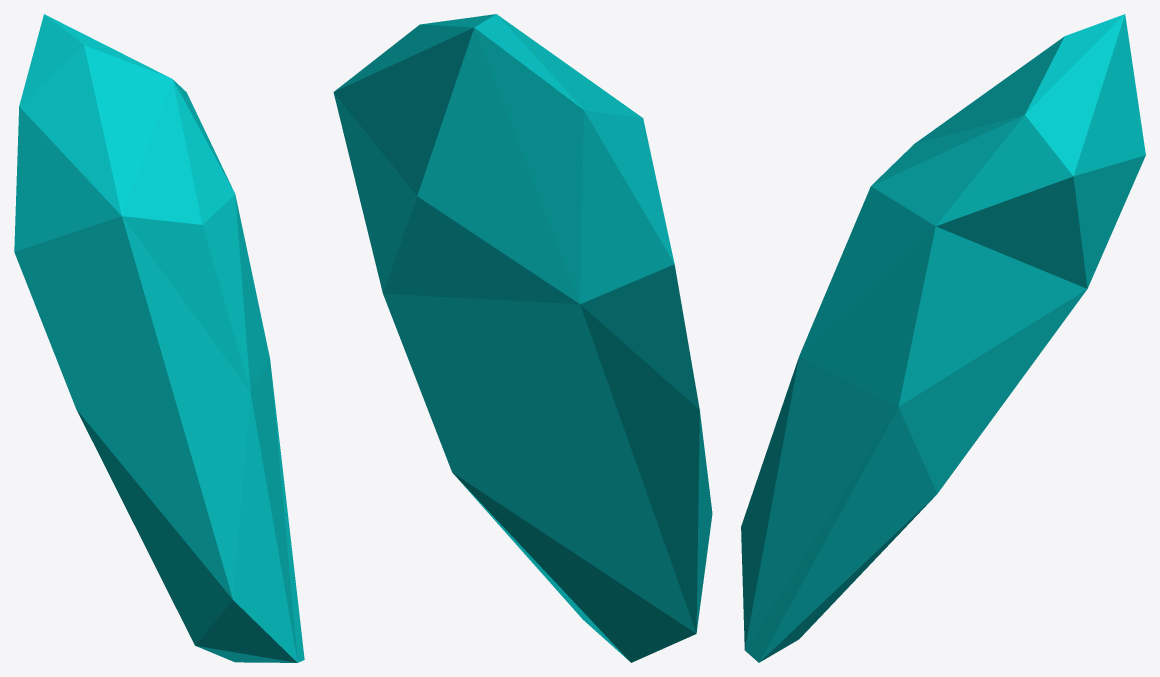
Rendered from Crystal4.fbx.
3 views of the same model, side by side, from view 1: azimuth 30°, elevation 25°; view 2: azimuth 150°, elevation 25°; view 3: azimuth 270°, elevation 25° (orthographic). The views are drawn at different scales.
Parts seen in each view (by area): view 1: Cube.069; view 2: Cube.069; view 3: Cube.069.
Part boxes in pixels (x1,y1,x2,y2): Cube.069: (14,14,304,662); Cube.069: (333,14,712,662); Cube.069: (741,14,1145,662).
Bounding box in the file's own units: 233 × 597 × 364.
